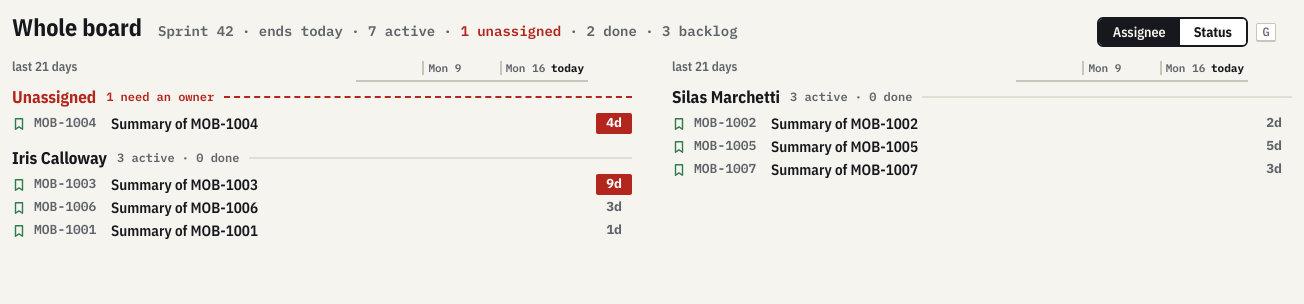
the Assignee | Status switch › selecting a segment regroups the board and persists the choice for this standup at once
What coordinates should you click on to do the following:
click the button "Status"
I would click on:
 (1213, 32)
Its box is x1=1180 y1=19 x2=1246 y2=45.
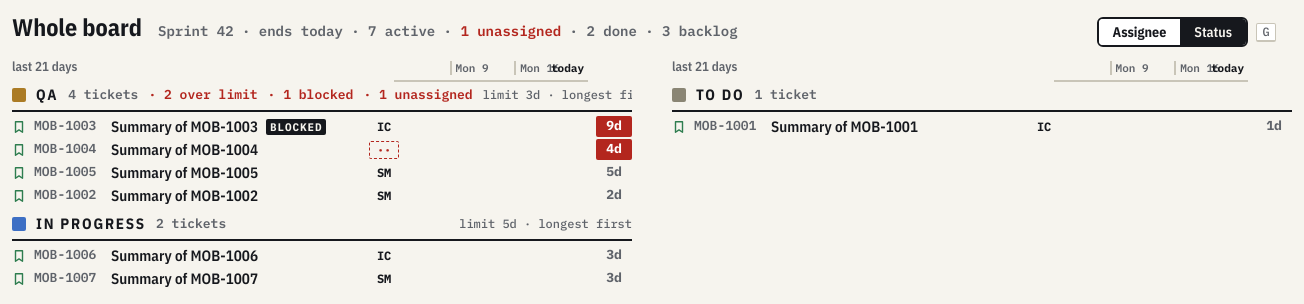
Result: the element with class "board-sec" that starts with "4 tickets" is shown at x1=12 y1=82 x2=632 y2=211
What coordinates should you click on to do the following:
click the button "Assignee"
I would click on:
 (1139, 32)
Its box is x1=1098 y1=19 x2=1180 y2=45.
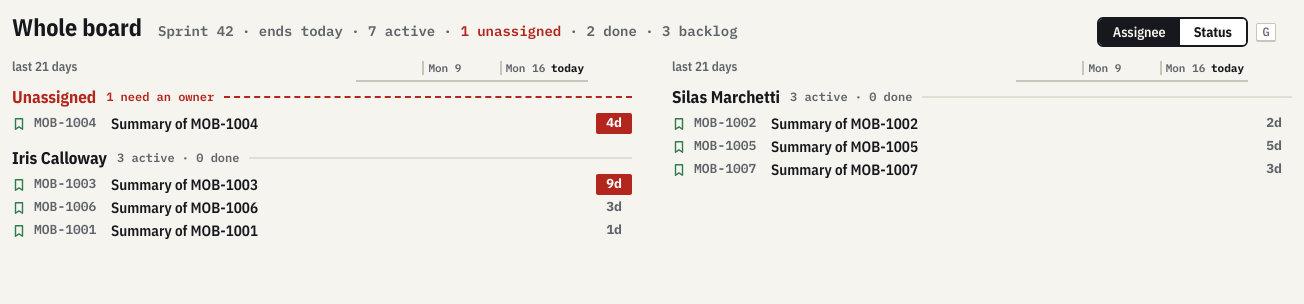
Result: the element with class "board-sec" is gone
Result: the button with class "board-lane-head" showing "Unassigned 1 need an owner" is shown at x1=12 y1=82 x2=632 y2=112
